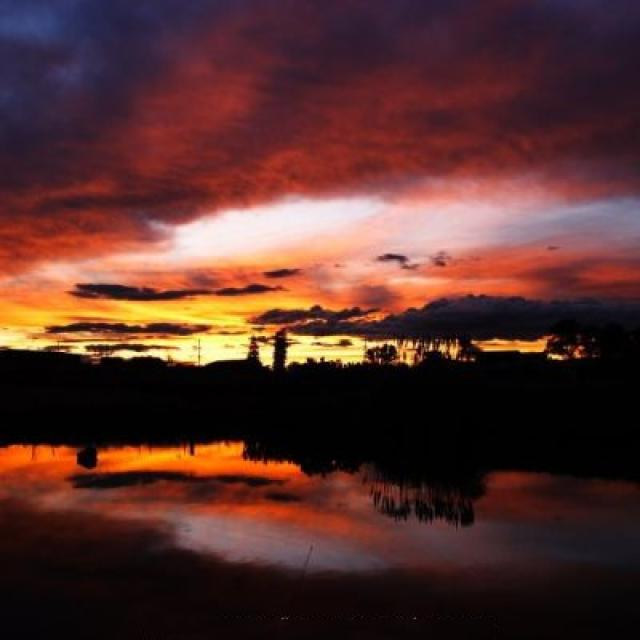As: (1, 88, 640, 324)
